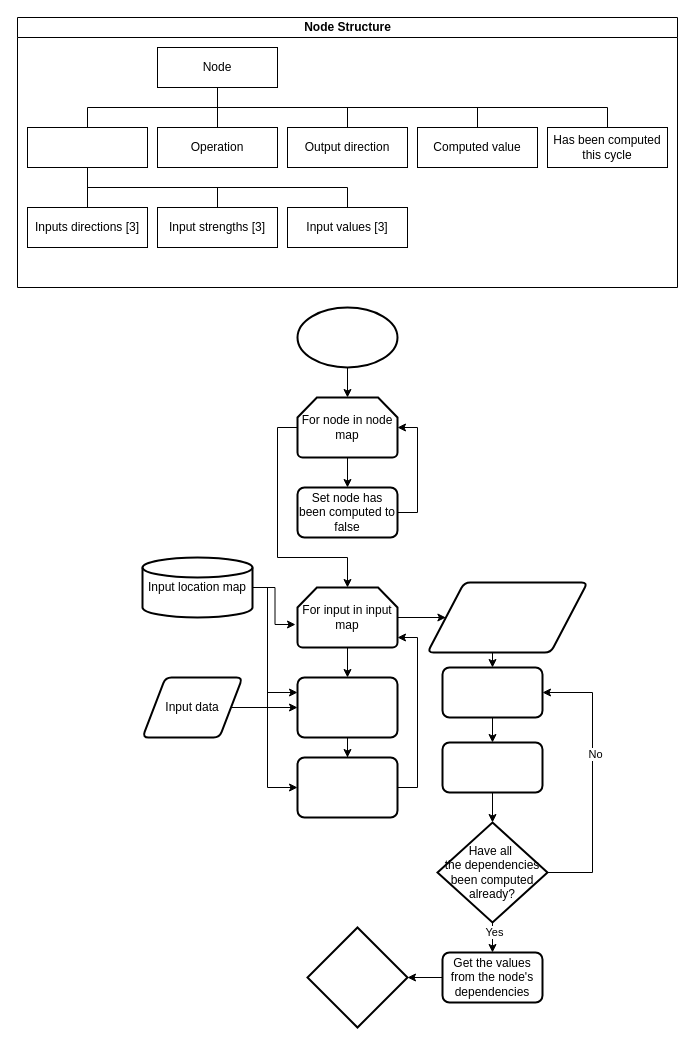
Image size: 695x1046. Some labels were removed from this diagram. The box of each missing label's shape, as (x1, y1, x2, y2) in pixels:
Get the node's requirements: (441, 741, 543, 793)
Inputs: (26, 126, 148, 168)
Pick a node to compute: (441, 666, 543, 718)
Set node at input location computed value to input: (296, 676, 398, 738)
Set node at input location has been computed to true: (296, 756, 398, 818)
Set the number of nodes needed to compute to the total number of nodes: (426, 581, 588, 653)
Trigger update: (296, 306, 398, 368)
What mode is the node in?: (306, 926, 408, 1028)
